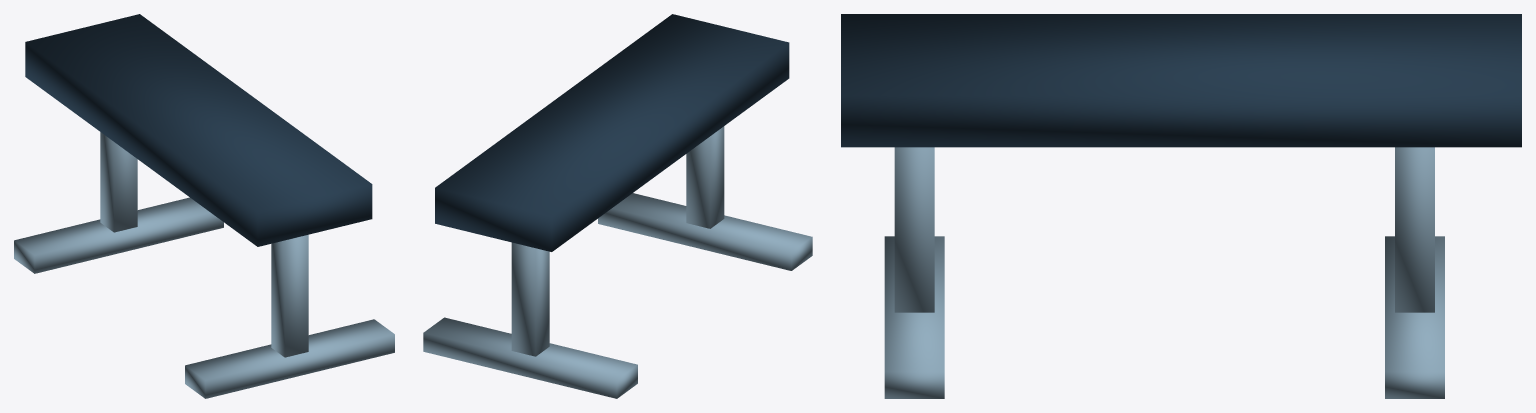
Rendered from bench.glb.
3 renders of one model, left to right at view 1: azimuth 30°, elevation 25°; view 2: azimuth 150°, elevation 25°; view 3: azimuth 270°, elevation 25°, orthographic. The views are drawn at different scales.
Visible parts, largest first — view 1: bench_pad, bench_frame; view 2: bench_pad, bench_frame; view 3: bench_pad, bench_frame.
Boxes of the visible parts, x1,y1,x2,y2 form: bench_pad: (25, 14, 372, 246); bench_frame: (14, 132, 394, 398); bench_pad: (435, 14, 789, 251); bench_frame: (423, 126, 812, 398); bench_pad: (841, 14, 1521, 147); bench_frame: (884, 147, 1444, 398).
Size of the model in its own units: 0.48 by 0.4595 by 1.02.
